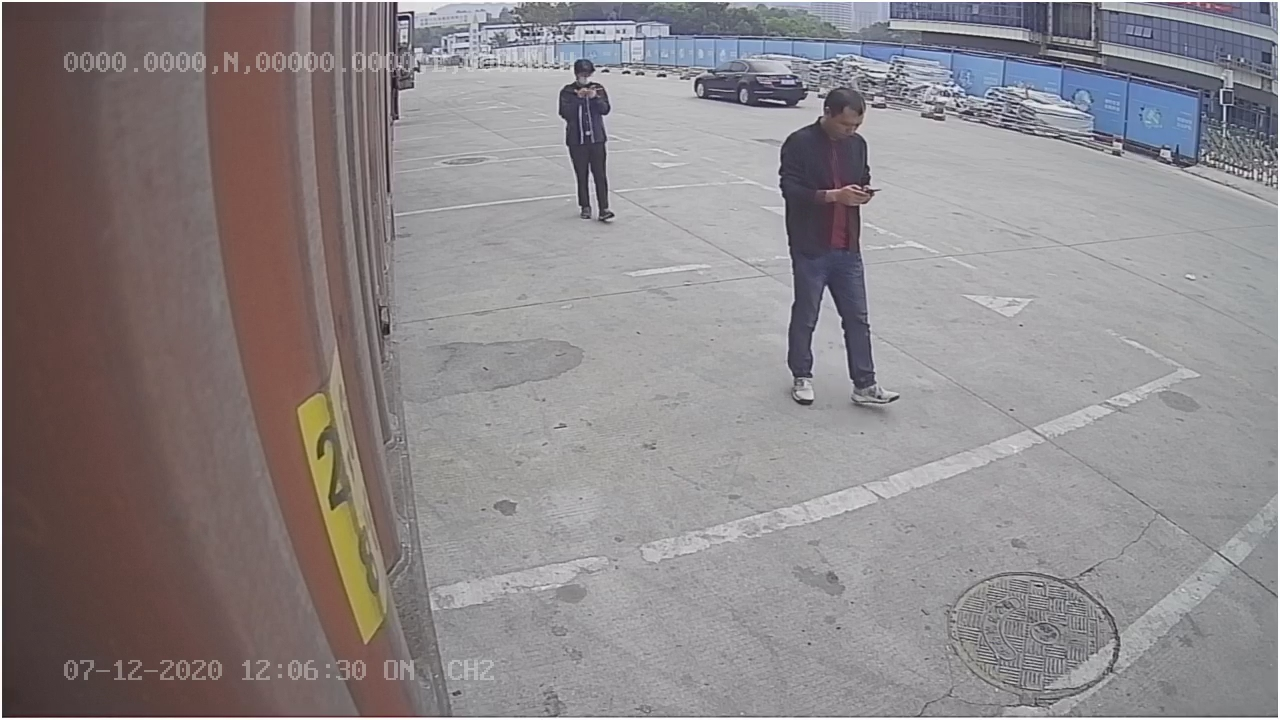person: (780, 85, 902, 415)
